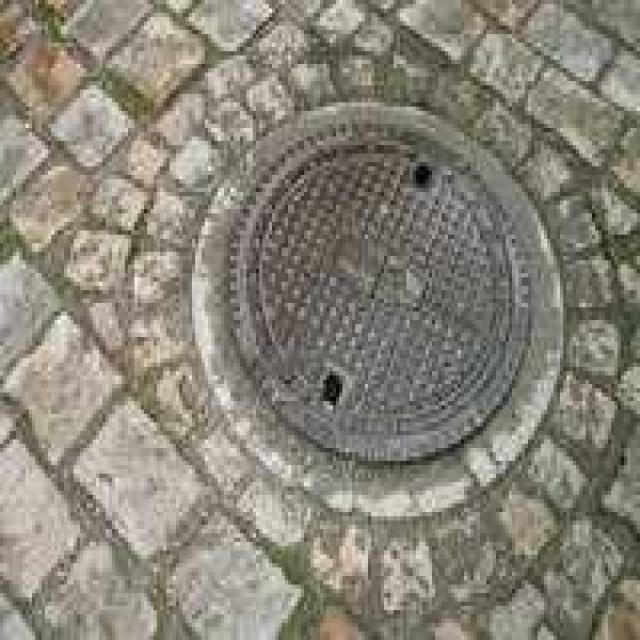manhole: (196, 103, 561, 517)
